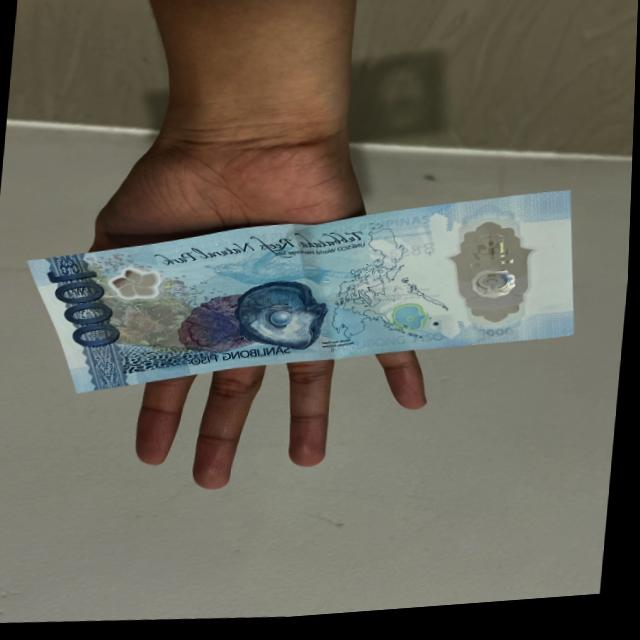clear_window: (447, 224, 538, 343)
sampaguita: (114, 263, 166, 304)
serial_number: (53, 260, 117, 357)
